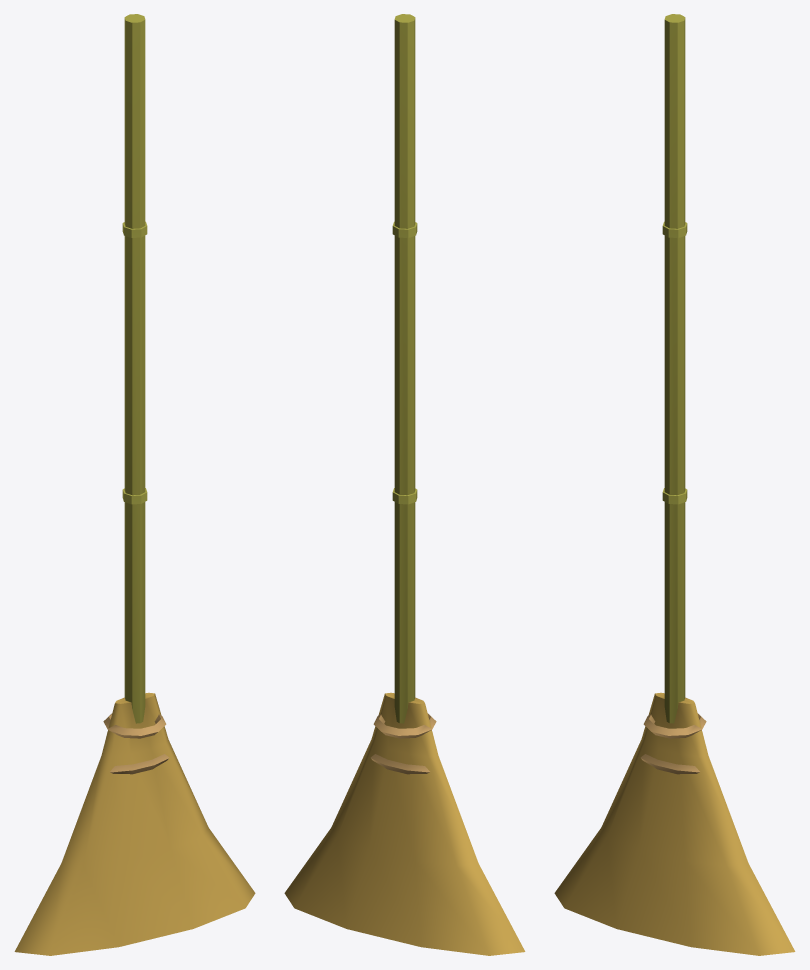
File: broom.glb
The picture shows the model from 3 angles, left to right: view 1: azimuth 30°, elevation 25°; view 2: azimuth 150°, elevation 25°; view 3: azimuth 330°, elevation 25°; orthographic projection.
Visible parts, largest first — view 1: Broom Straw, Broom Bamboo, Broom Rope; view 2: Broom Straw, Broom Bamboo, Broom Rope; view 3: Broom Straw, Broom Bamboo, Broom Rope.
Part boxes in pixels (box(x1,y1,x2,y2)): Broom Straw: box(14, 692, 255, 955); Broom Bamboo: box(122, 14, 147, 723); Broom Rope: box(103, 713, 169, 774); Broom Straw: box(284, 692, 525, 955); Broom Bamboo: box(392, 14, 417, 723); Broom Rope: box(370, 713, 436, 774); Broom Straw: box(554, 692, 795, 955); Broom Bamboo: box(662, 14, 687, 723); Broom Rope: box(640, 713, 706, 774).
Size of the model in its own units: 0.36 by 1.3 by 0.1096.
